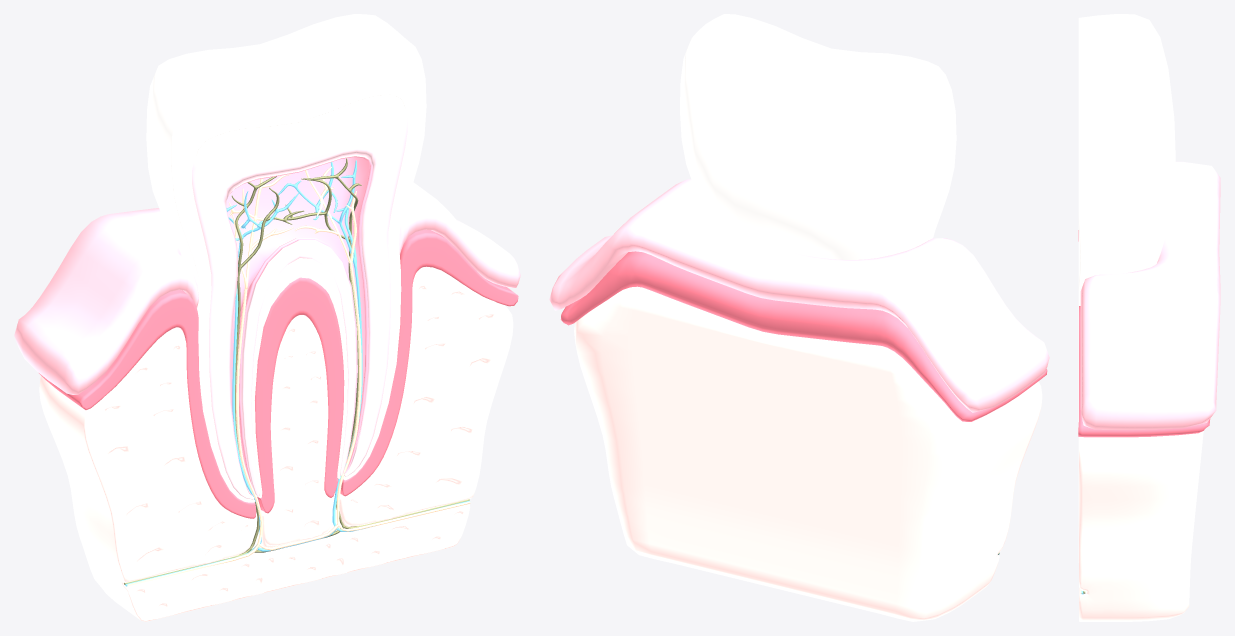
The model's file is tooth_01.glb.
3 views of the same model, side by side, from view 1: azimuth 30°, elevation 25°; view 2: azimuth 150°, elevation 25°; view 3: azimuth 270°, elevation 25° (orthographic). The views are drawn at different scales.
Visible parts, largest first — view 1: Plane.013_Plane.040, Plane.022_Plane.048, Plane.021_Plane.047, Plane.015_Plane.042, Plane.020_Plane.046, Plane.014_Plane.041, Plane.016_Plane.043, Plane.017_Plane.044, Plane.018_Plane.045; view 2: Plane.013_Plane.040, Plane.022_Plane.048, Plane.015_Plane.042, Plane.020_Plane.046; view 3: Plane.015_Plane.042, Plane.022_Plane.048, Plane.013_Plane.040, Plane.020_Plane.046.
Boxes of the visible parts, x1=… form: Plane.013_Plane.040: x1=39, y1=266, x2=513, y2=621; Plane.022_Plane.048: x1=146, y1=14, x2=426, y2=502; Plane.021_Plane.047: x1=192, y1=98, x2=407, y2=499; Plane.015_Plane.042: x1=14, y1=182, x2=520, y2=394; Plane.020_Plane.046: x1=39, y1=229, x2=518, y2=518; Plane.014_Plane.041: x1=226, y1=156, x2=373, y2=495; Plane.016_Plane.043: x1=127, y1=166, x2=470, y2=586; Plane.017_Plane.044: x1=124, y1=158, x2=469, y2=584; Plane.018_Plane.045: x1=125, y1=160, x2=469, y2=586; Plane.013_Plane.040: x1=574, y1=286, x2=1042, y2=621; Plane.022_Plane.048: x1=680, y1=14, x2=956, y2=259; Plane.015_Plane.042: x1=549, y1=179, x2=1049, y2=412; Plane.020_Plane.046: x1=560, y1=251, x2=1047, y2=421; Plane.015_Plane.042: x1=1080, y1=161, x2=1220, y2=429; Plane.022_Plane.048: x1=1078, y1=14, x2=1175, y2=349; Plane.013_Plane.040: x1=1078, y1=350, x2=1203, y2=621; Plane.020_Plane.046: x1=1078, y1=230, x2=1210, y2=437.
Bounding box in the file's own units: 6.29 × 6.99 × 1.83.
